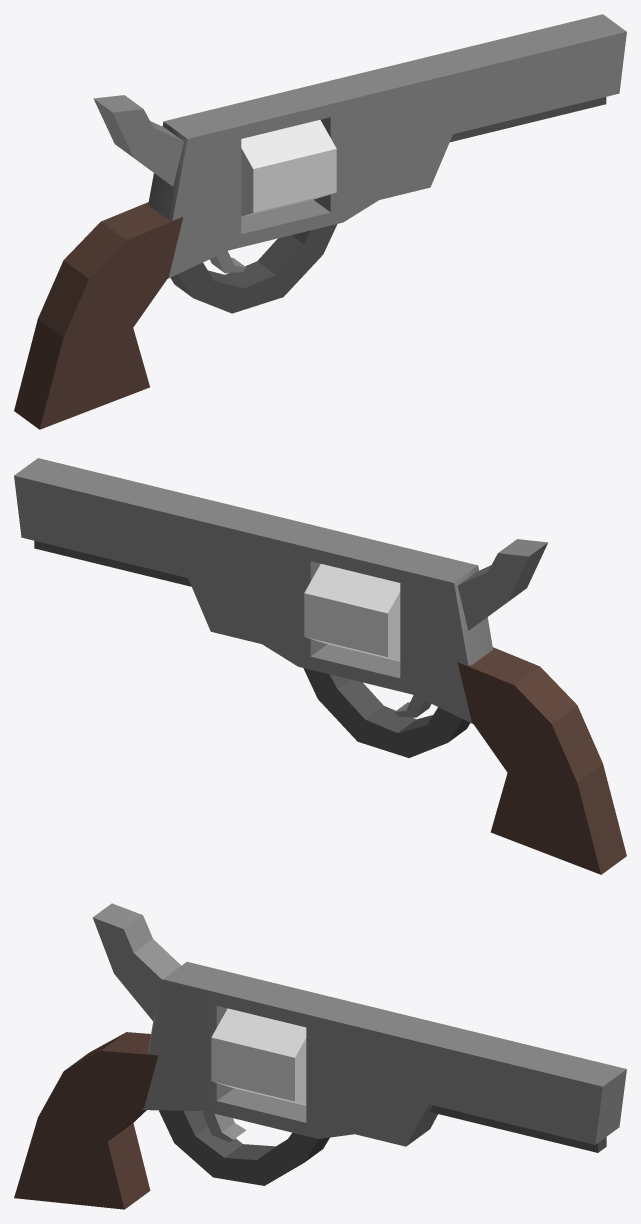
The model's file is gun.fbx.
3 views of the same model, one above another, from view 1: azimuth 30°, elevation 25°; view 2: azimuth 150°, elevation 25°; view 3: azimuth 330°, elevation 25° (orthographic).
Parts seen in each view (by area): view 1: pCube1, pCube2, pCylinder1, pCube4, pCube3; view 2: pCube1, pCube2, pCylinder1, pCube4, pCube3; view 3: pCube1, pCube2, pCylinder1, pCube4, pCube3, pCube5.
Boxes of the visible parts, x1,y1,x2,y2 form: pCube1: (93,14,626,278); pCube2: (14,202,183,429); pCylinder1: (241,120,336,216); pCube4: (170,224,337,313); pCube3: (450,97,606,142); pCube1: (14,458,548,724); pCube2: (457,647,626,874); pCylinder1: (304,564,400,661); pCube4: (303,668,470,757); pCube3: (34,540,191,586); pCube1: (92,903,626,1146); pCube2: (14,1032,158,1209); pCylinder1: (211,1008,306,1105); pCube4: (159,1110,329,1185); pCube3: (429,1105,606,1152); pCube5: (202,1111,246,1142).
Size of the model in its own units: 14.08 by 6.79 by 1.73.
